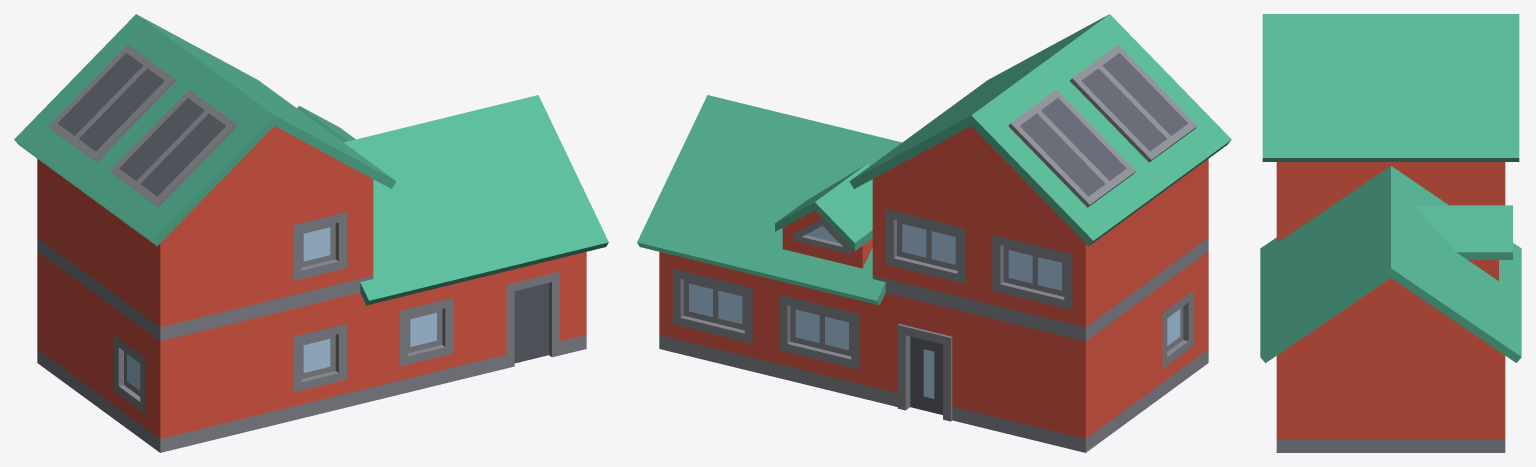
File: house_type03.dae
The picture shows the model from 3 angles, left to right: view 1: azimuth 30°, elevation 25°; view 2: azimuth 150°, elevation 25°; view 3: azimuth 270°, elevation 25°; orthographic projection. The views are drawn at different scales.
Visible parts, largest first — view 1: house_type03; view 2: house_type03; view 3: house_type03.
Part boxes in pixels (box(x1,y1,x2,y2)): house_type03: box(14, 14, 608, 452); house_type03: box(637, 14, 1231, 452); house_type03: box(1260, 14, 1521, 452).
Size of the model in its own units: 1.71 by 1.14 by 0.916.
